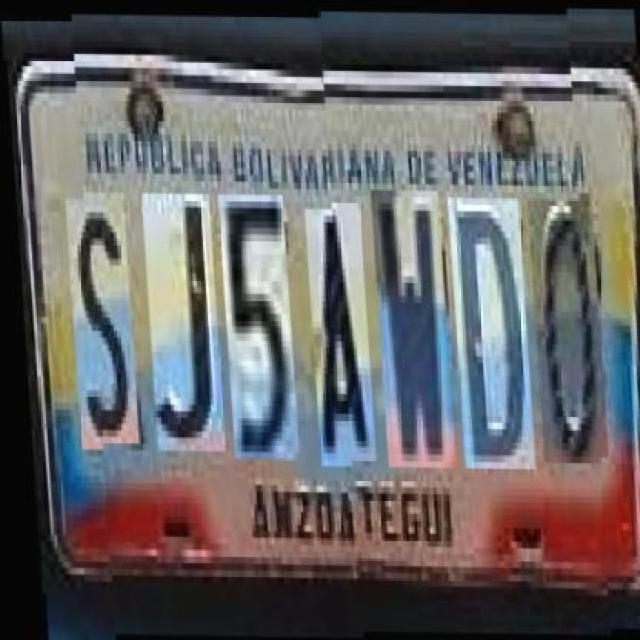5: (215, 187, 292, 451)
a: (302, 201, 369, 459)
d: (445, 197, 529, 468)
j: (138, 186, 220, 445)
o: (525, 198, 603, 462)
s: (61, 186, 132, 437)
w: (368, 188, 450, 467)
